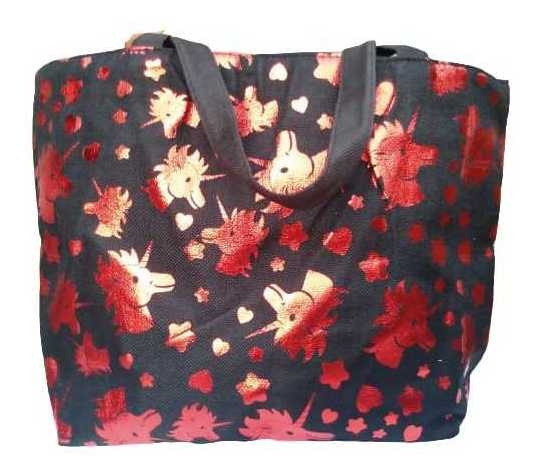cartera: (29, 29, 512, 447)
